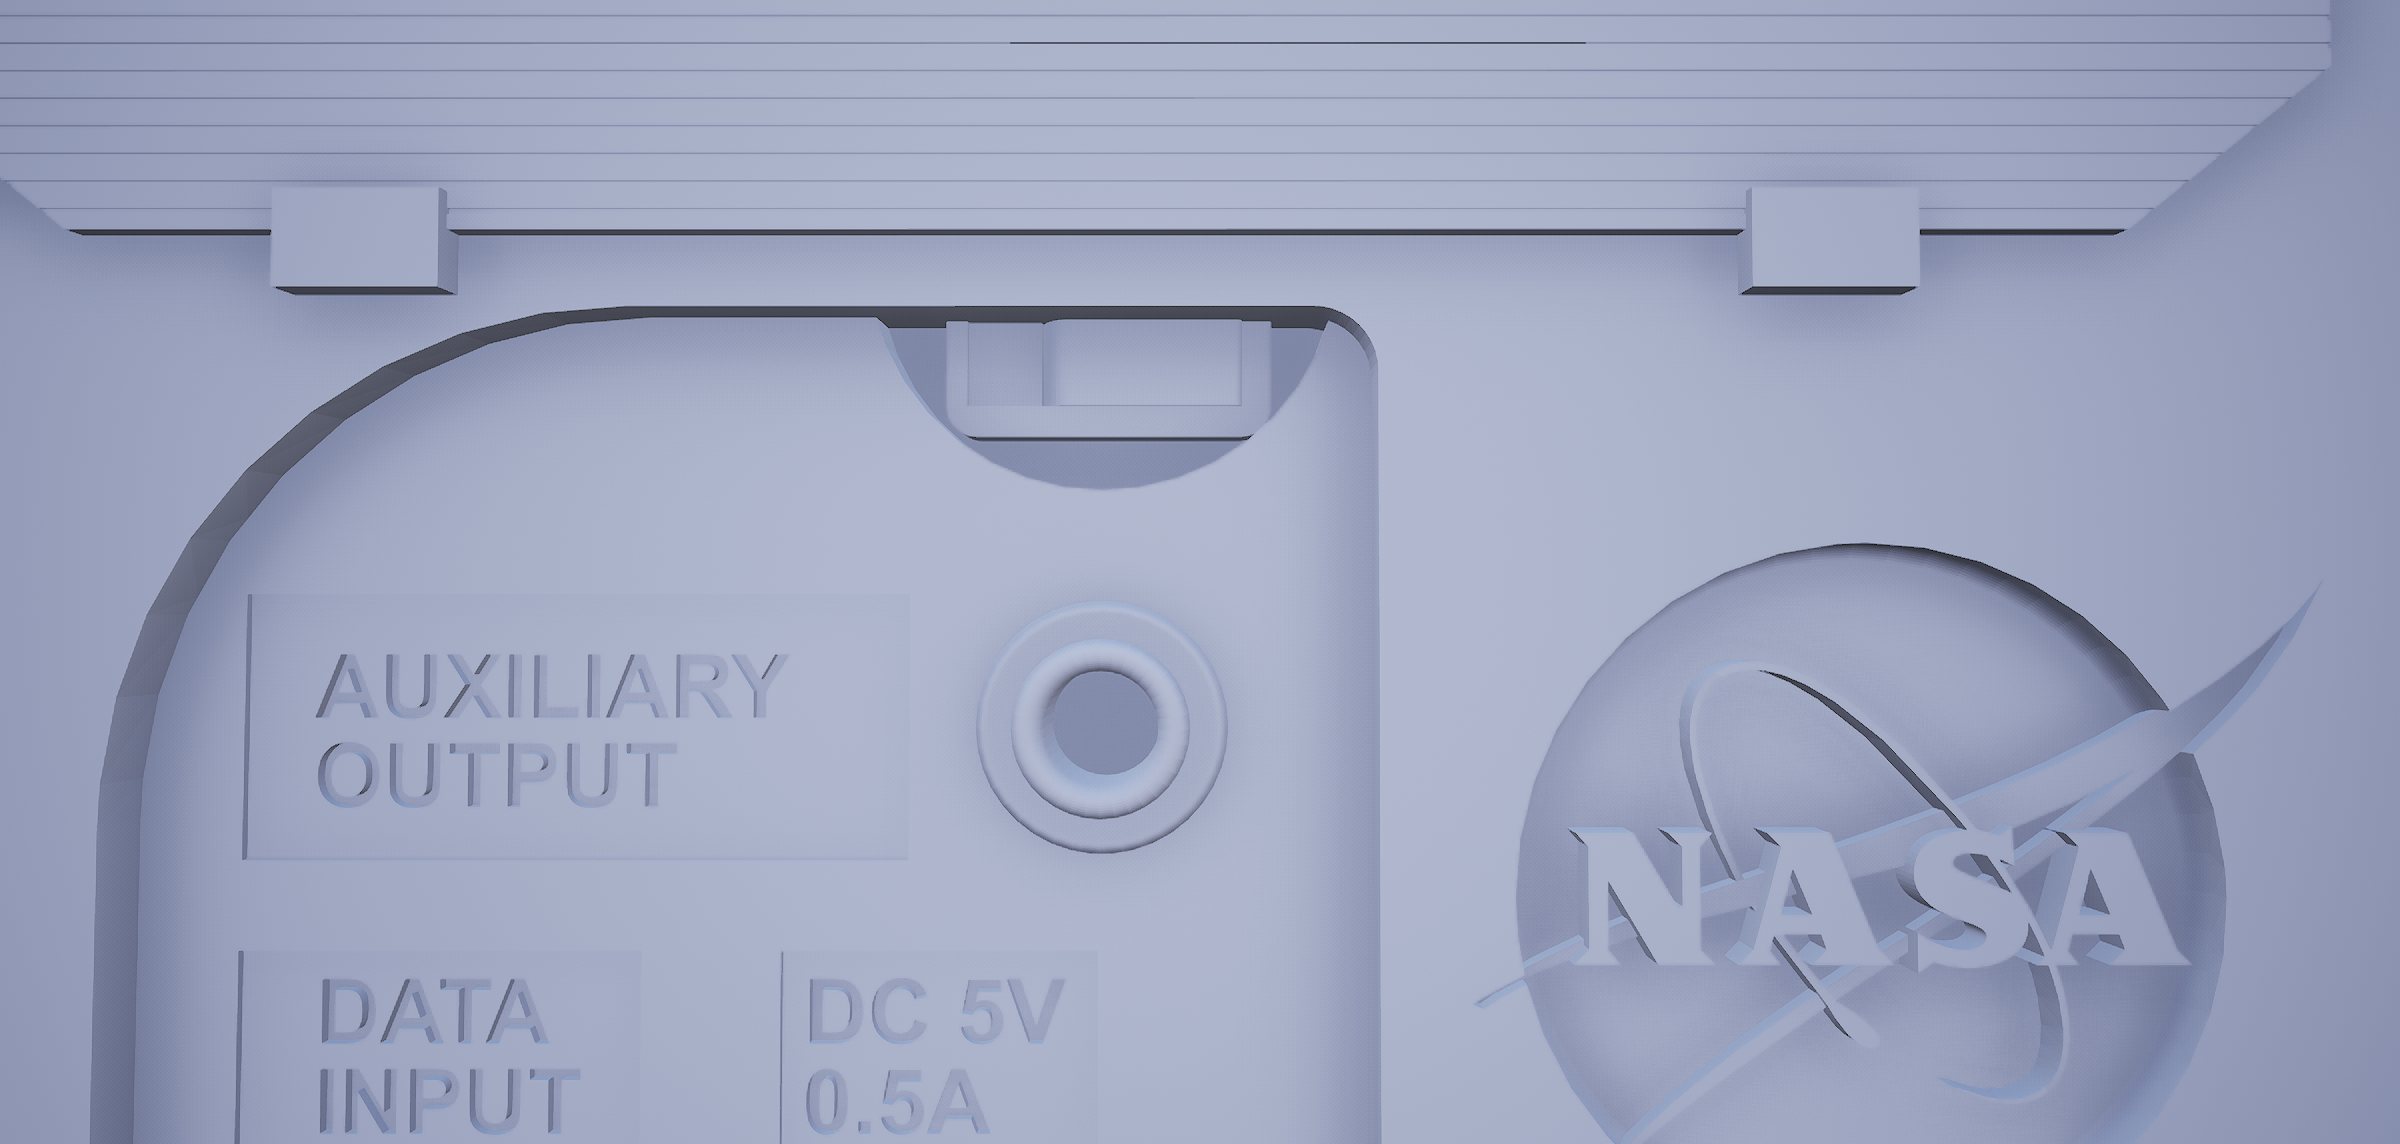aux: (957, 580, 1260, 893)
